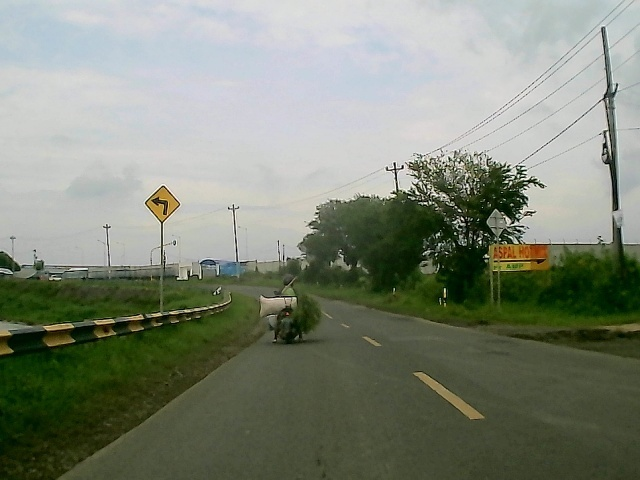Tikungan tajam ke kiri: (144, 184, 181, 224)
